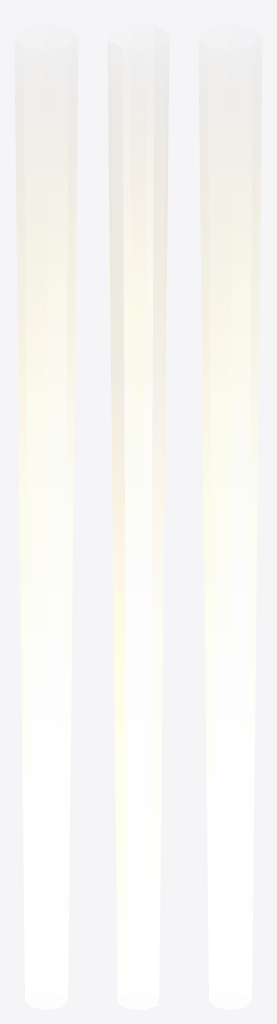
File: FrsSaeule_Weiss.gltf
3 renders of one model, left to right at view 1: azimuth 90°, elevation 25°; view 2: azimuth 150°, elevation 25°; view 3: azimuth 270°, elevation 25°, orthographic.
Visible parts, largest first — view 1: frs_saeule_weiss; view 2: frs_saeule_weiss; view 3: frs_saeule_weiss.
Boxes of the visible parts, box(x1,y1,x2,y2) form: frs_saeule_weiss: box(15, 73, 77, 1009); frs_saeule_weiss: box(108, 92, 168, 1009); frs_saeule_weiss: box(199, 73, 261, 1009).
Size of the model in its own units: 6 by 100 by 6.
